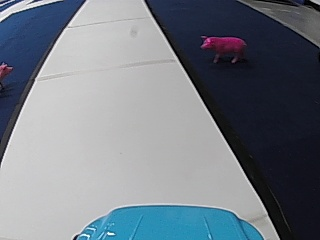pig: (197, 32, 247, 64)
